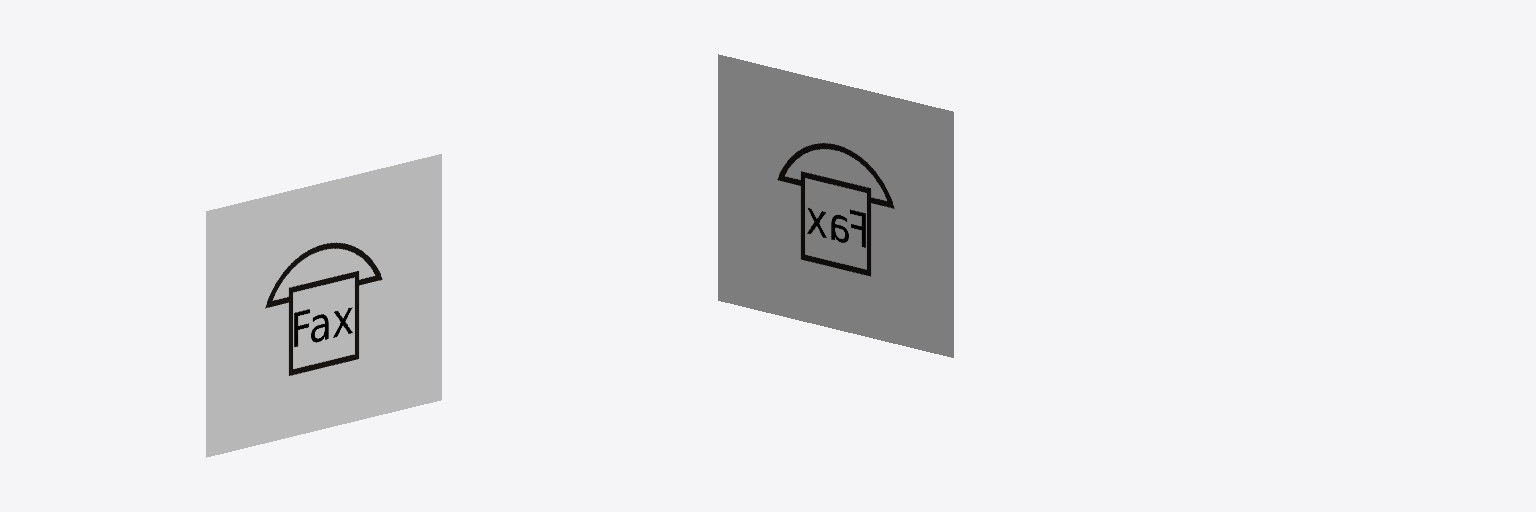
The picture shows the model from 3 angles: view 1: azimuth 30°, elevation 25°; view 2: azimuth 150°, elevation 25°; view 3: azimuth 270°, elevation 25°; orthographic projection.
Visible parts, largest first — view 1: Mesh; view 2: Mesh; view 3: none.
Boxes of the visible parts, box(x1,y1,x2,y2) form: Mesh: box(206, 154, 441, 457); Mesh: box(718, 54, 953, 357).
Size of the model in its own units: 50 by 50 by 50.
2 materials, 2 textured.